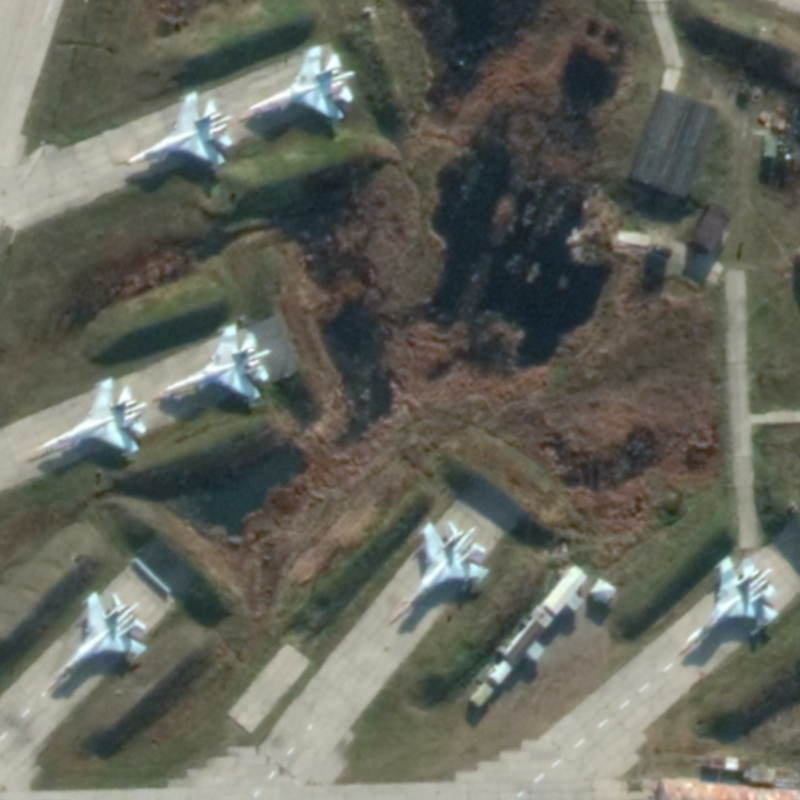A1: (385, 518, 494, 627), (670, 553, 780, 660), (41, 588, 150, 695), (28, 373, 151, 465), (244, 41, 357, 124), (161, 321, 272, 404), (122, 89, 235, 166)
